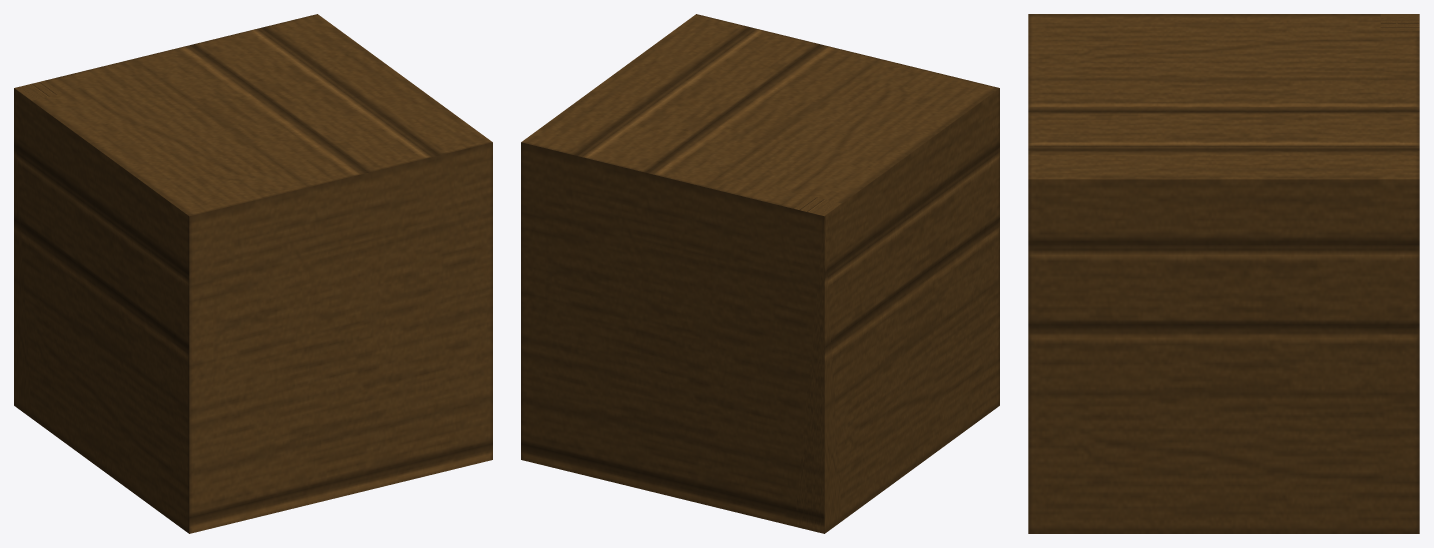
Rendered from crate.glb.
3 views of the same model, side by side, from view 1: azimuth 30°, elevation 25°; view 2: azimuth 150°, elevation 25°; view 3: azimuth 270°, elevation 25° (orthographic). The views are drawn at different scales.
Visible parts, largest first — view 1: core_crate; view 2: core_crate; view 3: core_crate.
Boxes of the visible parts, x1,y1,x2,y2 form: core_crate: [14, 14, 492, 533]; core_crate: [521, 14, 999, 533]; core_crate: [1028, 14, 1419, 533].
Bounding box in the file's own units: 0.6 × 0.6 × 0.6.
1 material, 1 textured.
